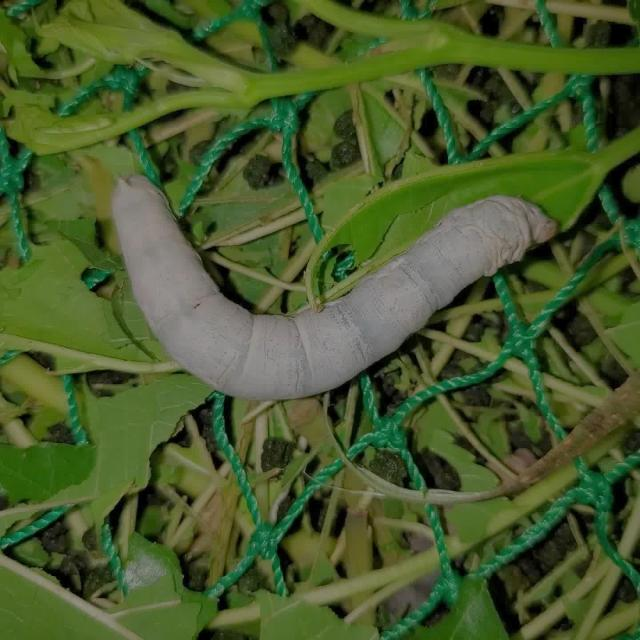Healthy: (85, 141, 571, 420)
